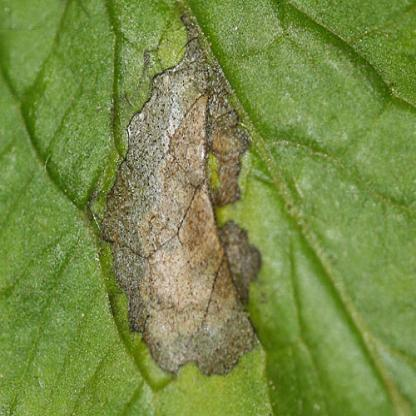Potato leaf: (2, 1, 416, 410)
